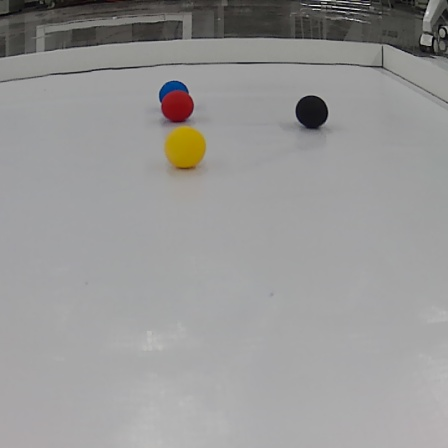black: (295, 96, 329, 132)
blue: (159, 79, 191, 109)
red: (159, 91, 196, 124)
yellow: (163, 125, 207, 170)
